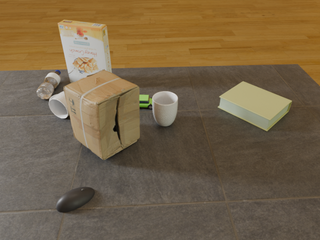book: (218, 82, 292, 131)
bottle: (37, 70, 61, 99)
box: (64, 69, 140, 160), (58, 20, 112, 82)
cup: (152, 91, 178, 126), (49, 91, 70, 118)
mouse: (56, 187, 95, 212)
toy_car: (140, 95, 153, 109)
